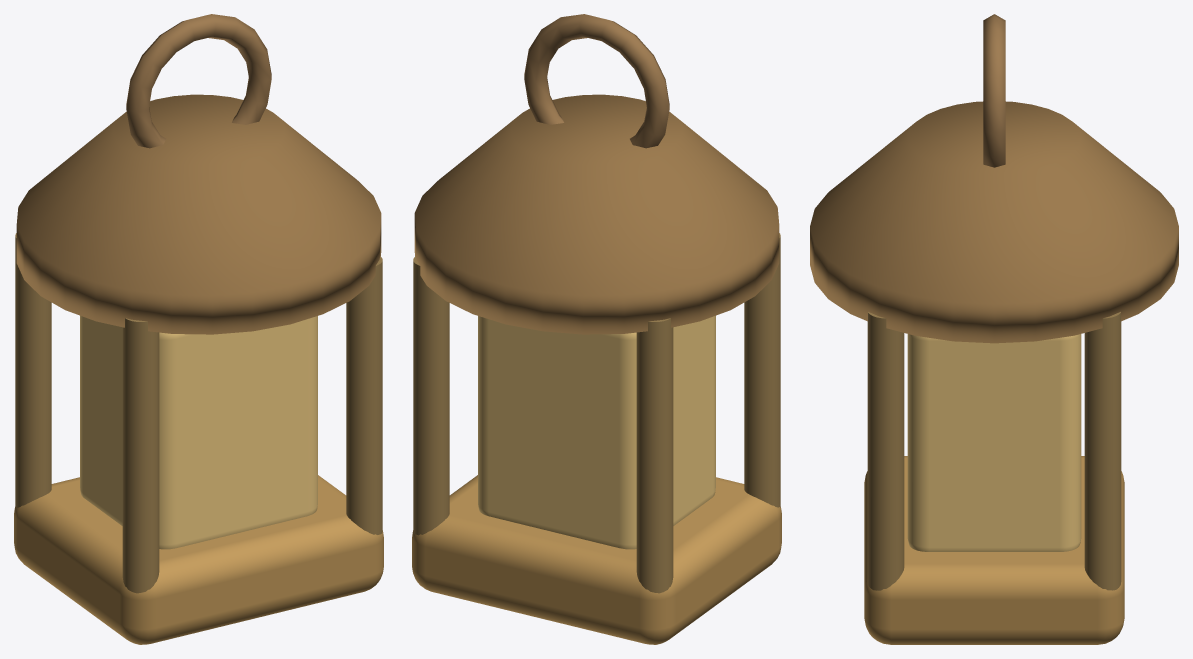
File: Lantern.glb
3 views of the same model, side by side, from view 1: azimuth 30°, elevation 25°; view 2: azimuth 150°, elevation 25°; view 3: azimuth 270°, elevation 25° (orthographic).
Parts seen in each view (by area): view 1: Lantern; view 2: Lantern; view 3: Lantern.
Part boxes in pixels (x1,y1,x2,y2): Lantern: (14, 14, 383, 644); Lantern: (412, 14, 781, 644); Lantern: (810, 14, 1178, 644).
Bounding box in the file's own units: 0.34 × 0.5768 × 0.34.
